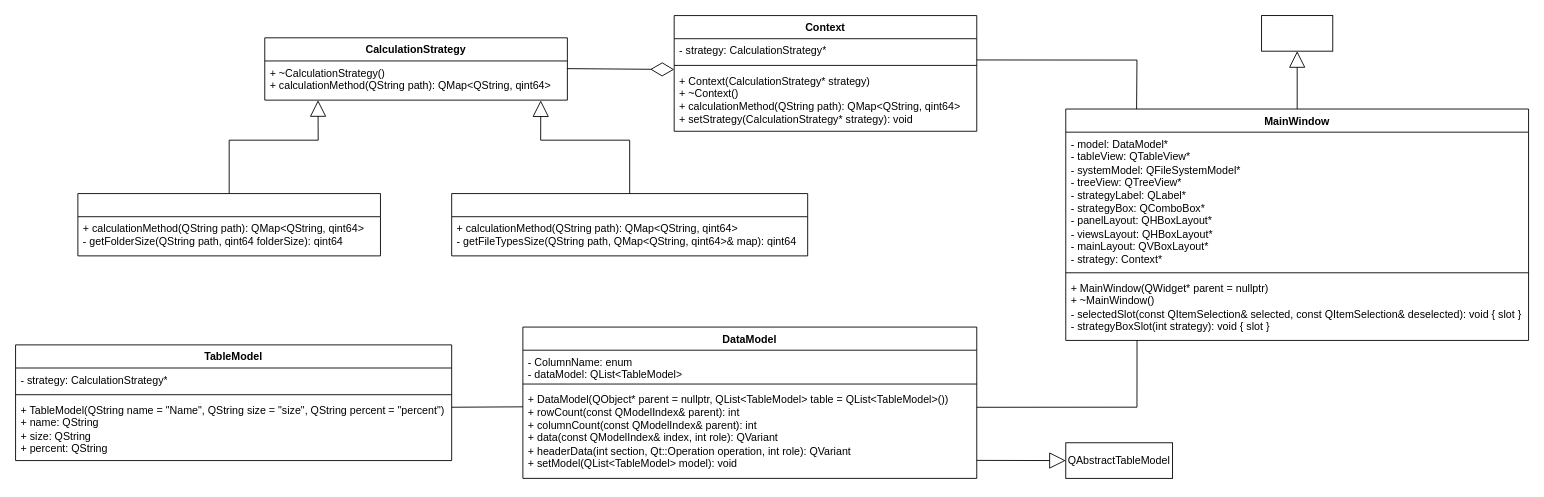
Image size: 1544x497. Some labels were removed from this diagram. The box of each missing label's shape, as (x1, y1, x2, y2) in pixels:
ByFileTypeCalculationStrategy: (451, 193, 808, 256)
ByFolderCalculationStrategy: (77, 193, 380, 256)
QWidget: (1261, 15, 1333, 51)
